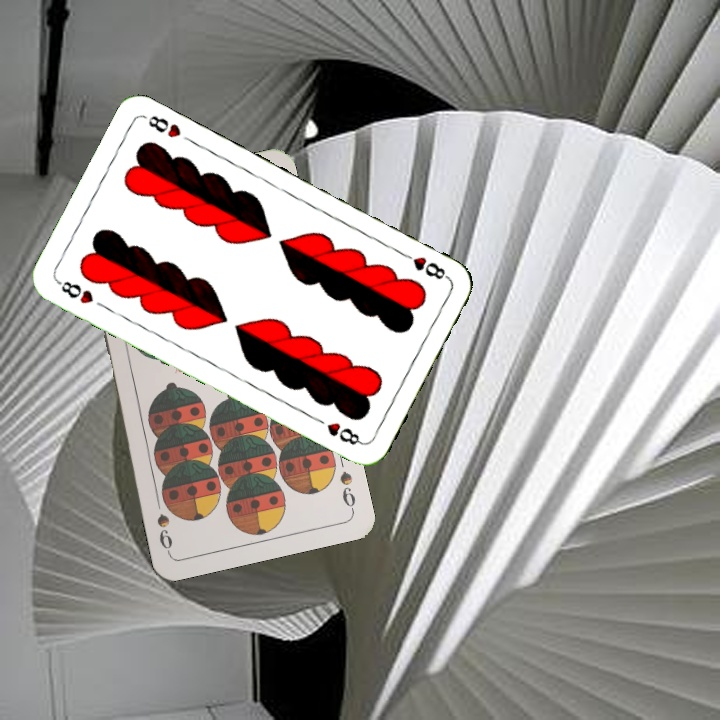H8: (397, 248, 452, 282), (53, 277, 96, 307)
S9: (335, 467, 358, 514)
